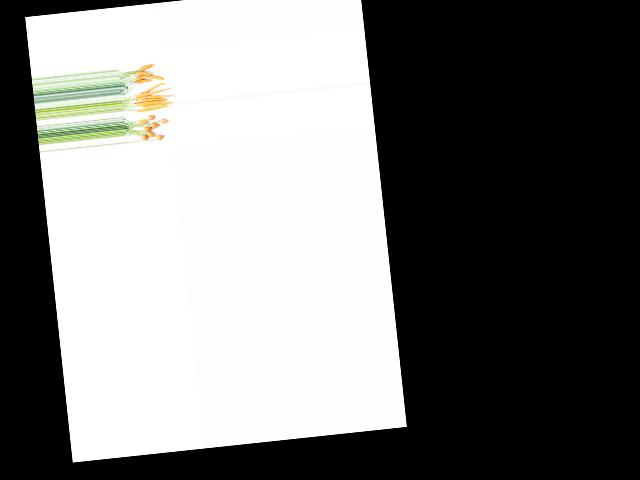carrot: (156, 131, 166, 140)
